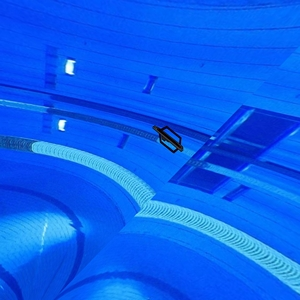submarine: (152, 123, 188, 157)
